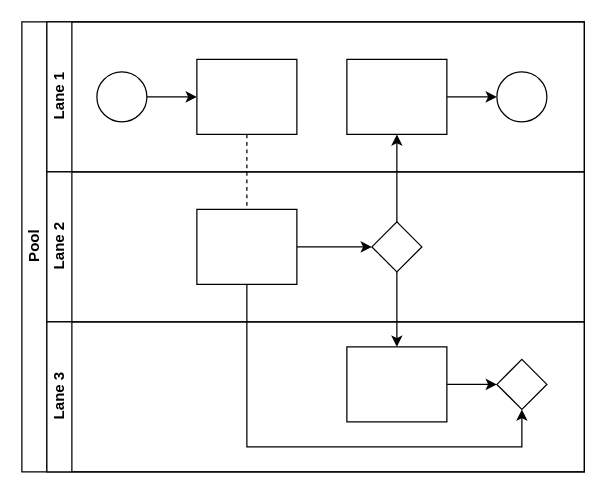
This 606x494 diagram has some shape labels left out. Each missing label, with the centre of its shape:
"Hello" belongs at point (246, 96).
"world" belongs at point (246, 246).
